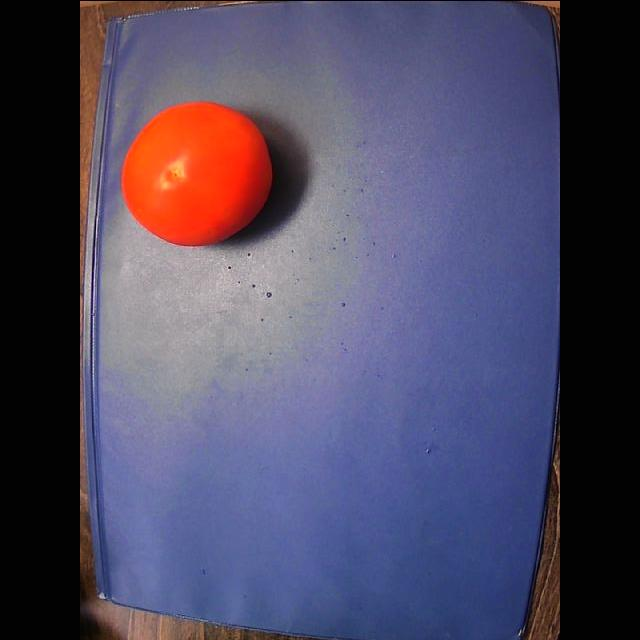tomate: (122, 101, 271, 244)
